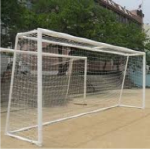goals: (5, 27, 148, 146)
